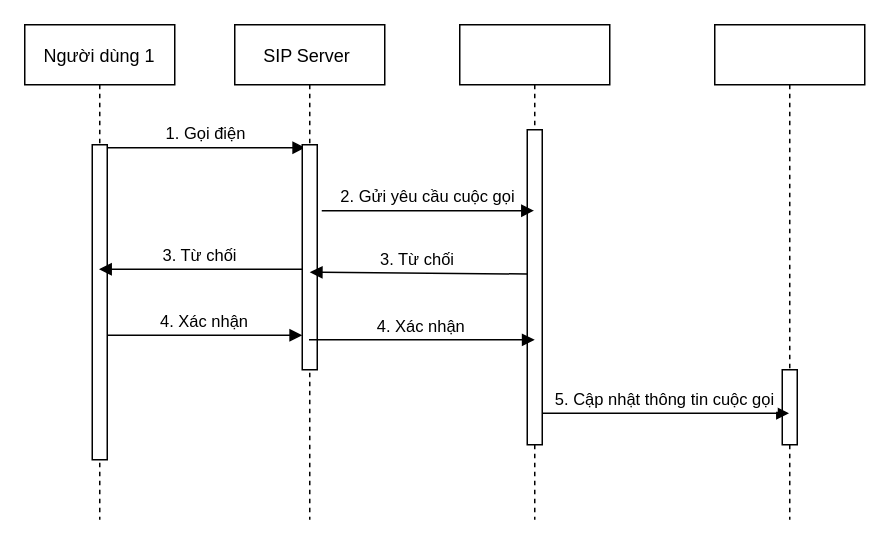
This 890x545 diagram has some shape labels left out. Here are the shapes that lost their labels. From the top down, the box of each, then its label:
(458, 23, 610, 520): Người dùng 2
(713, 23, 865, 520): Firebase
